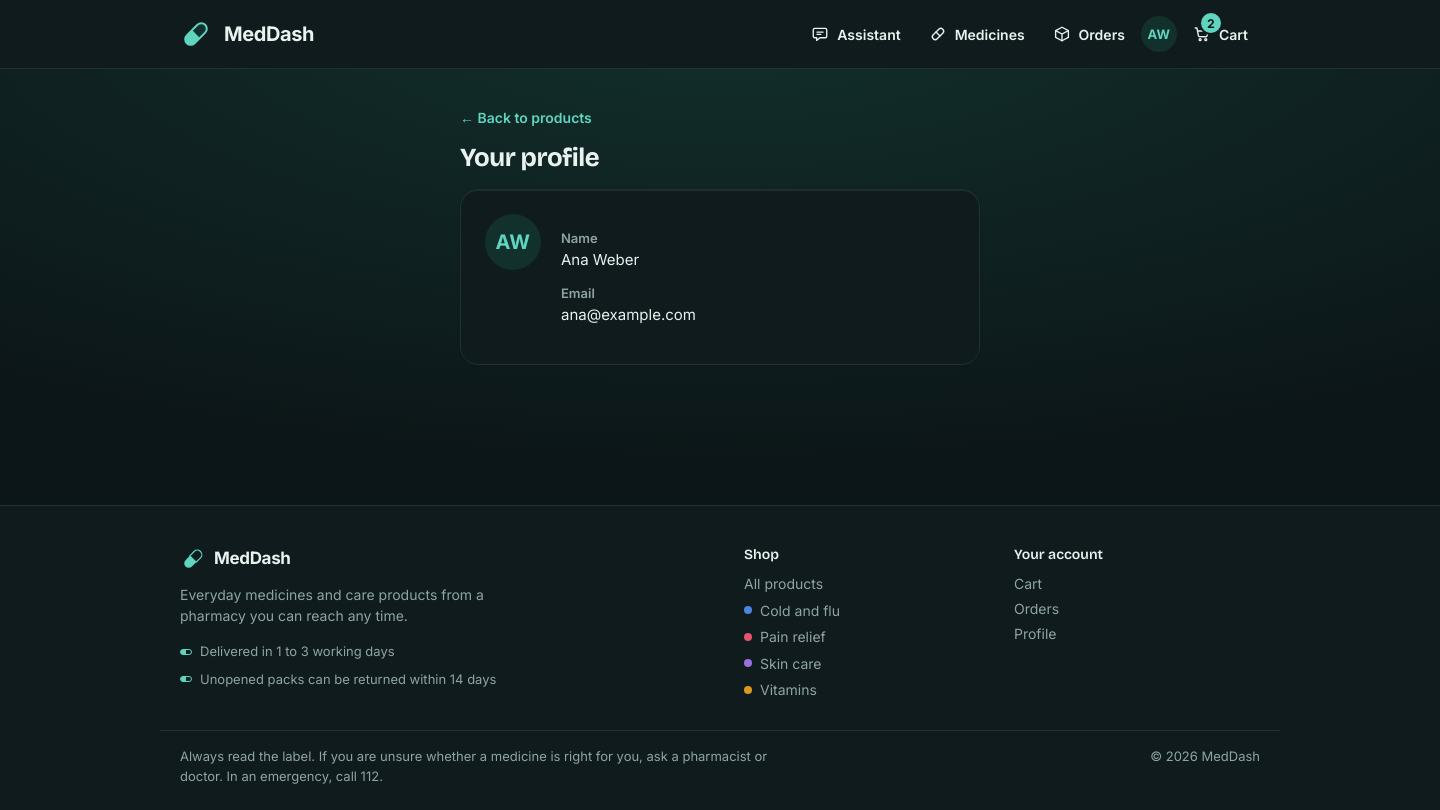
Scenario: App routes › logs out from the profile to the assistant's intro, not the login page
The image size is (1440, 810).
Click the button with aria-label "Account menu" at coordinates (1159, 34), box [1141,16,1177,52]
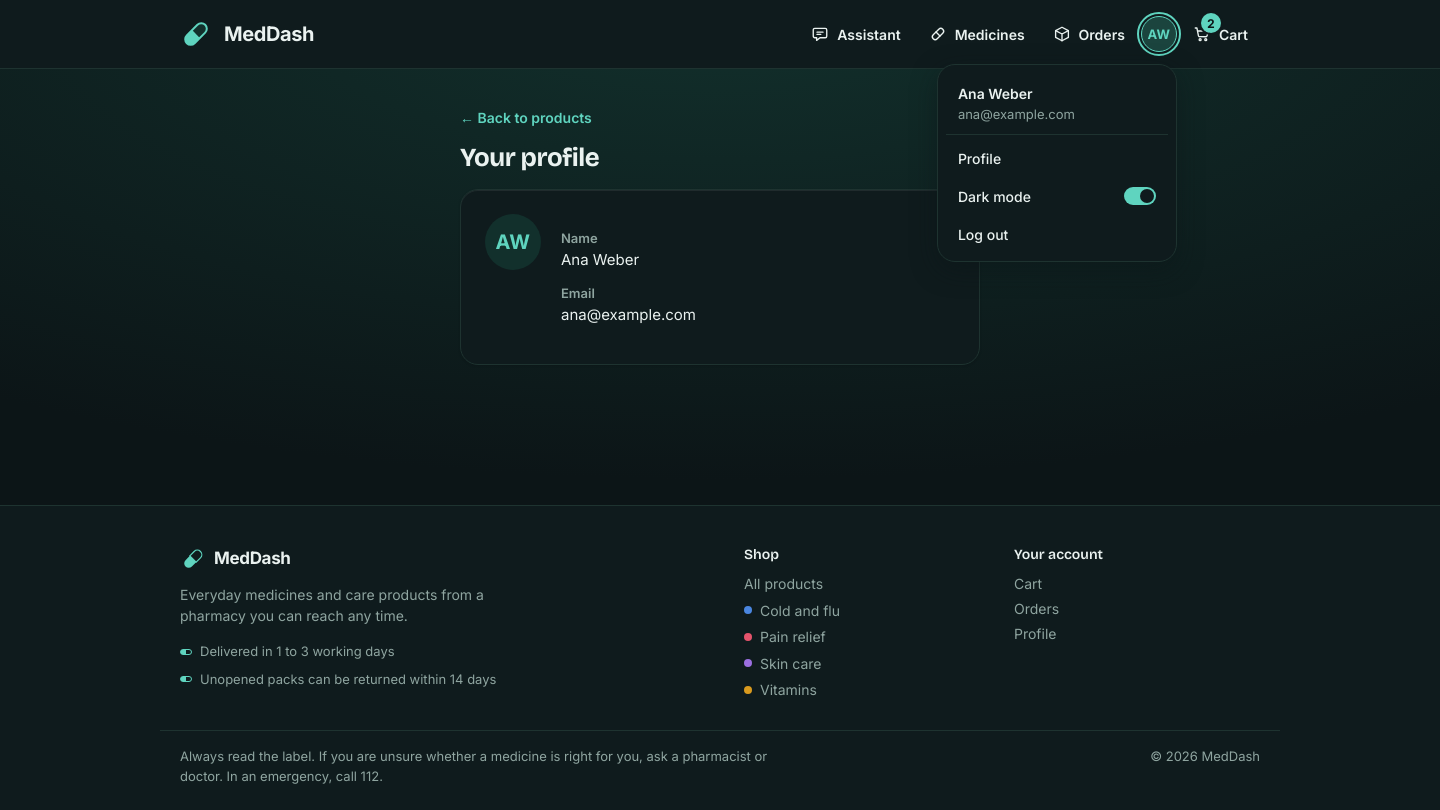
Click the button "Log out" at coordinates (1057, 234), box [946,215,1168,253]
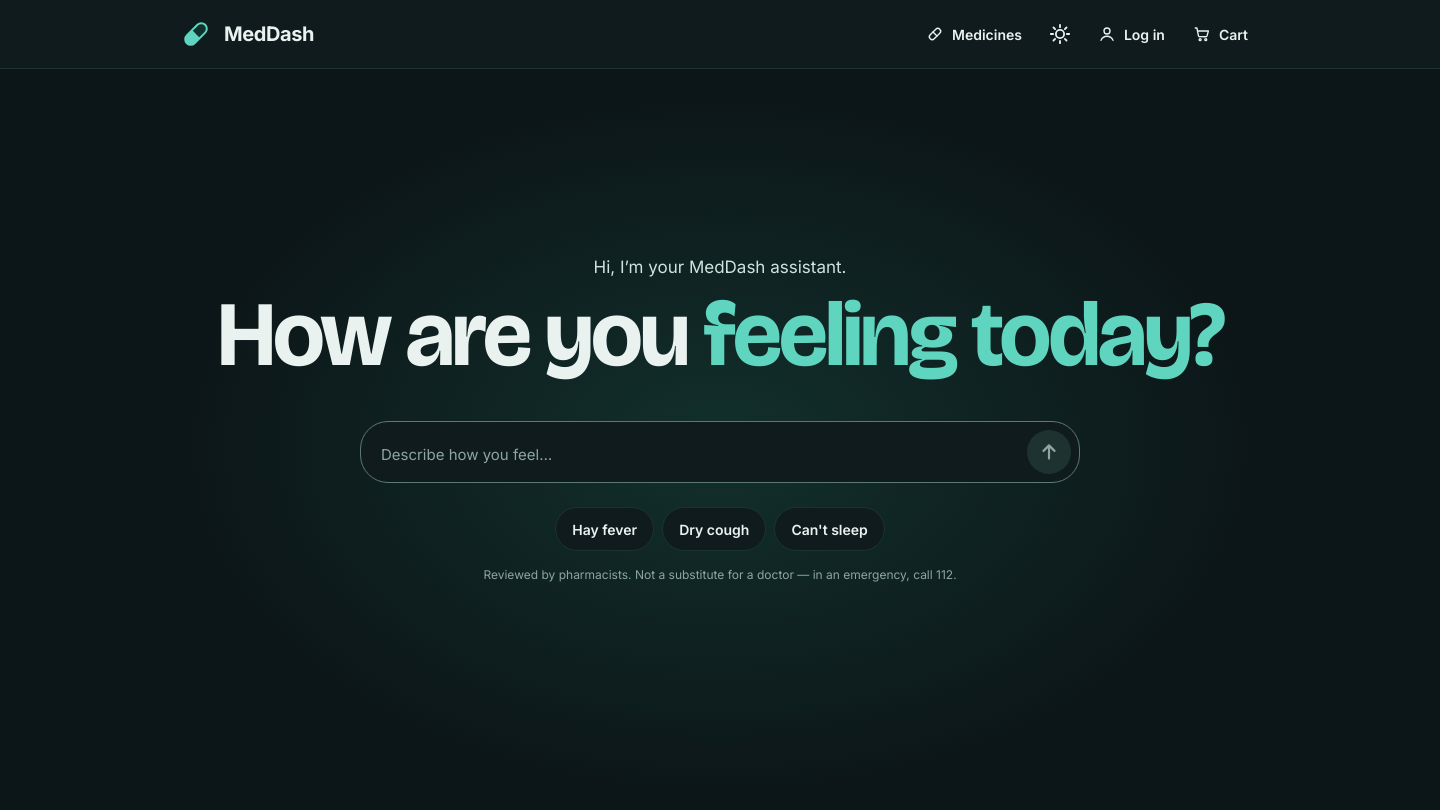
Now the heading "How are you feeling today?" is shown, box [217,289,1223,381]
Now the link "Log in" is shown, box [1098,25,1165,43]
